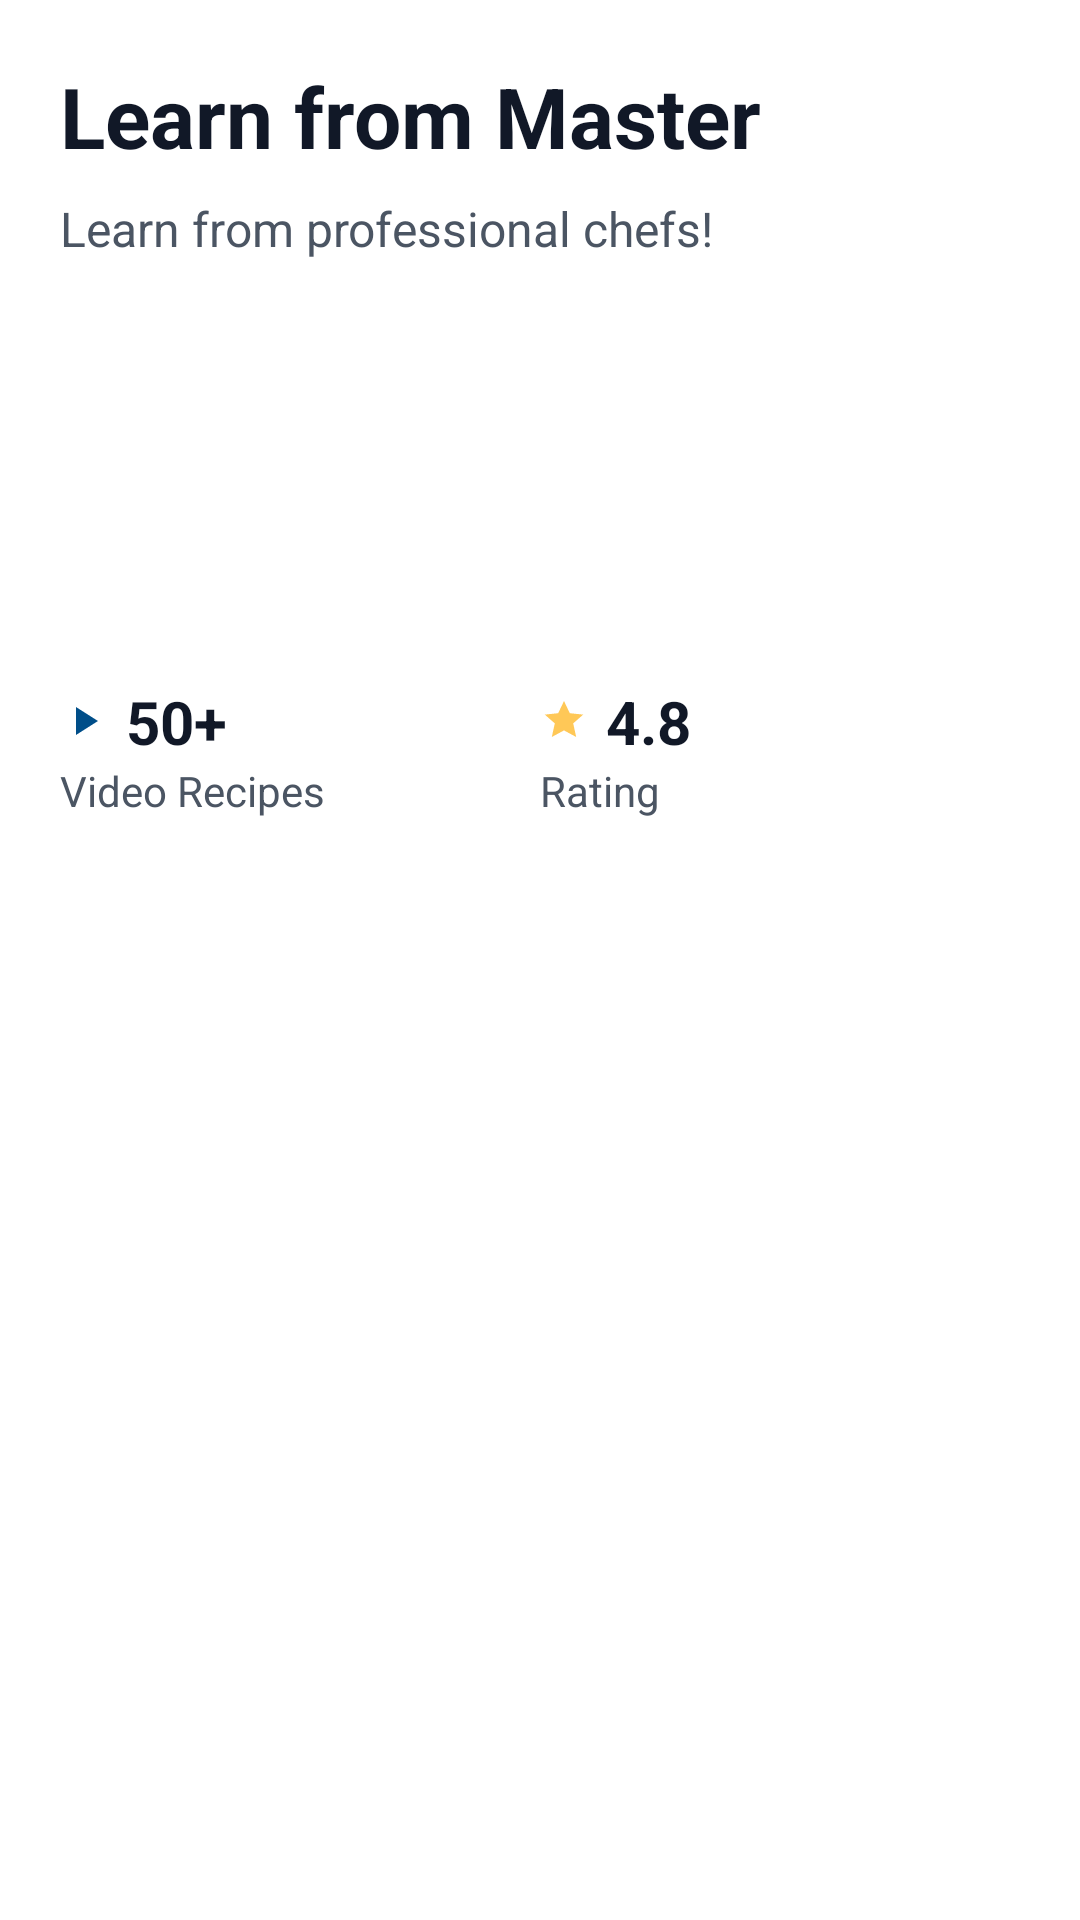

Icon bounding boxes for this 1080w x 1920h phone screenshot, format (x1, y1, x2, y2):
play: (76, 707, 98, 735)
star: (545, 701, 583, 737)
